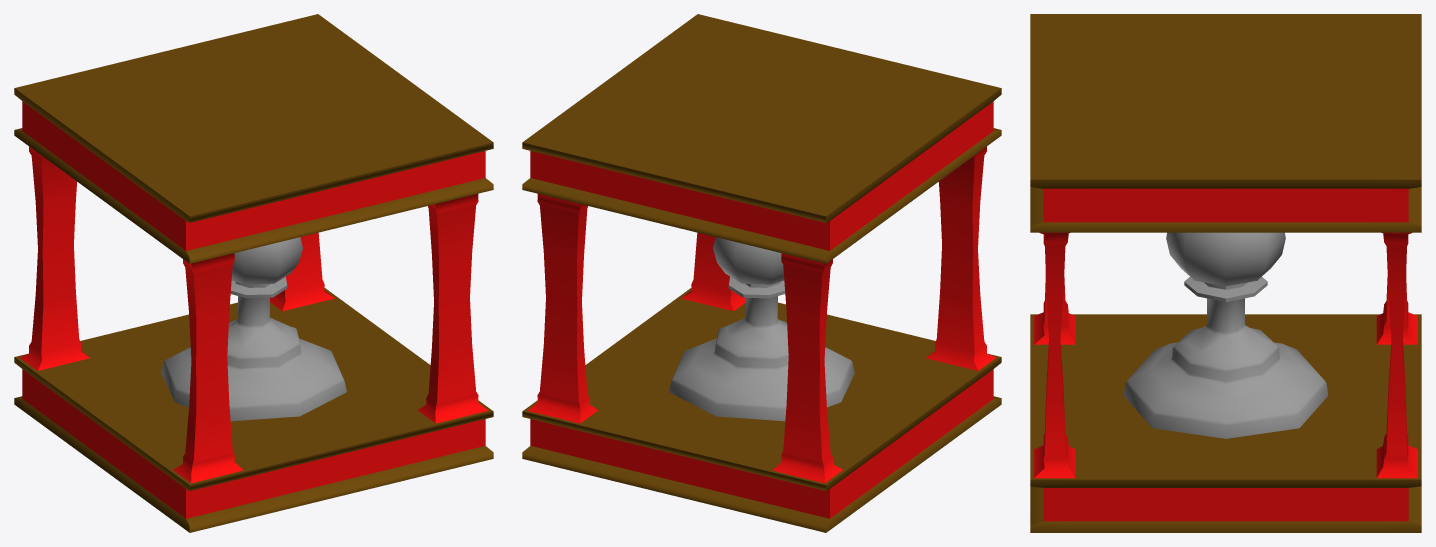
File: pawn_02.FBX
3 renders of one model, left to right at view 1: azimuth 30°, elevation 25°; view 2: azimuth 150°, elevation 25°; view 3: azimuth 270°, elevation 25°, orthographic. The views are drawn at different scales.
Parts seen in each view (by area): view 1: Box004, Box001; view 2: Box004, Box001; view 3: Box004, Box001.
Part boxes in pixels (x1,y1,x2,y2): Box004: (14, 14, 493, 532); Box001: (161, 237, 346, 421); Box004: (522, 14, 1001, 532); Box001: (669, 237, 854, 421); Box004: (1030, 14, 1421, 532); Box001: (1123, 232, 1328, 438).
Bounding box in the file's own units: 100 × 99.6 × 100.
